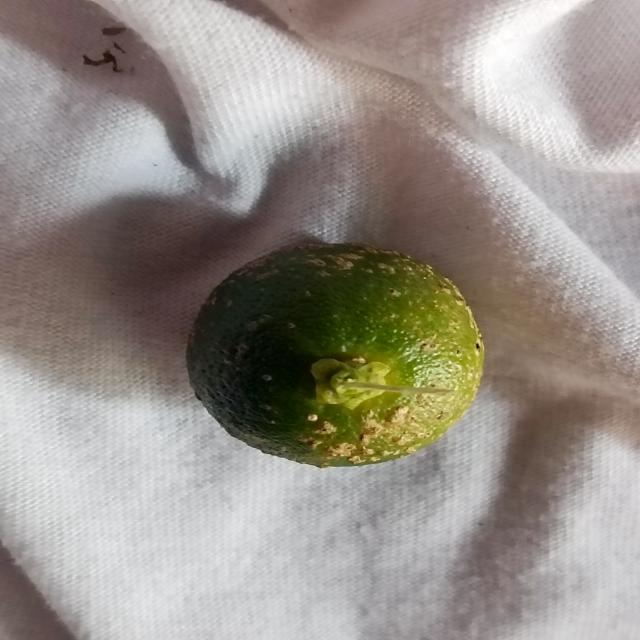scab: (176, 222, 485, 479)
